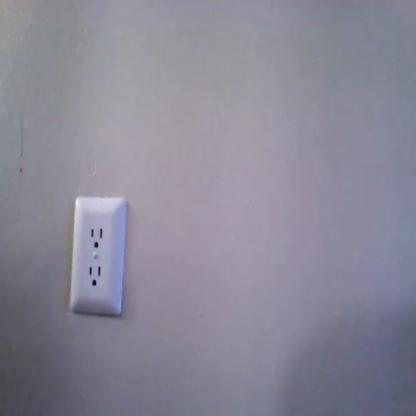OUTLET: (69, 196, 124, 318)
